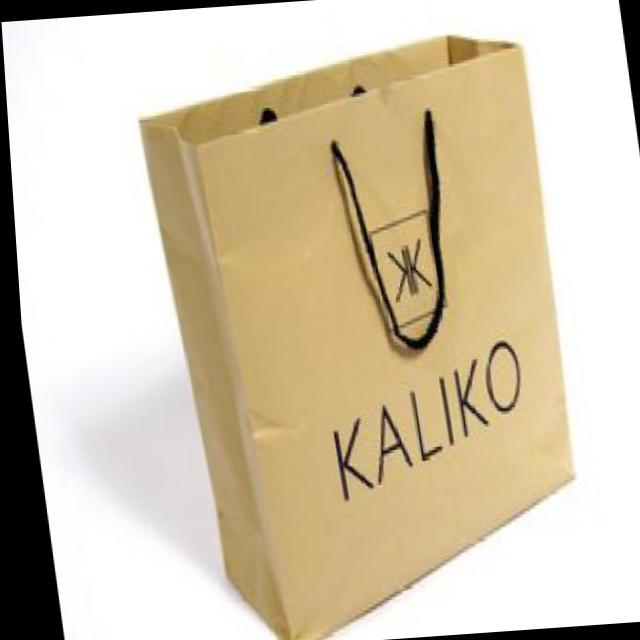box: (114, 6, 598, 640)
